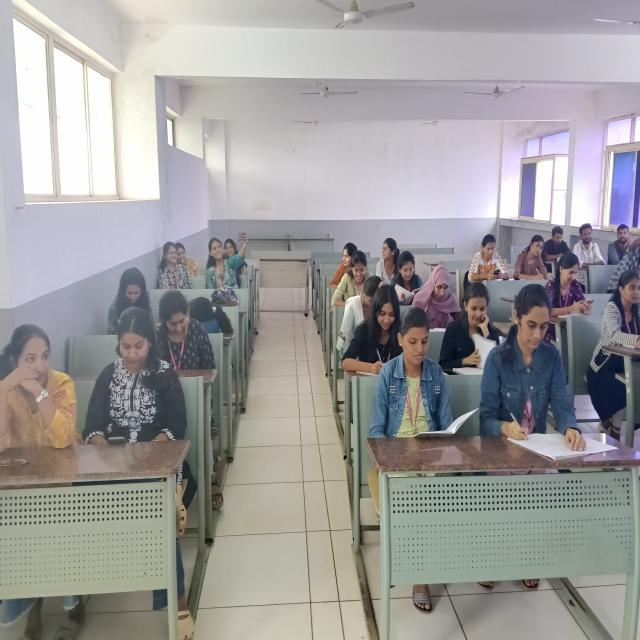Reading: (375, 301, 476, 443), (438, 277, 500, 381), (410, 264, 459, 331), (389, 248, 428, 304)
Sleeping: (183, 291, 240, 343)
Using Phone: (81, 305, 195, 458), (156, 288, 220, 370), (542, 251, 595, 319), (205, 228, 250, 304), (466, 231, 514, 286)
Writing: (480, 280, 577, 456), (341, 280, 405, 378), (509, 230, 555, 287)
